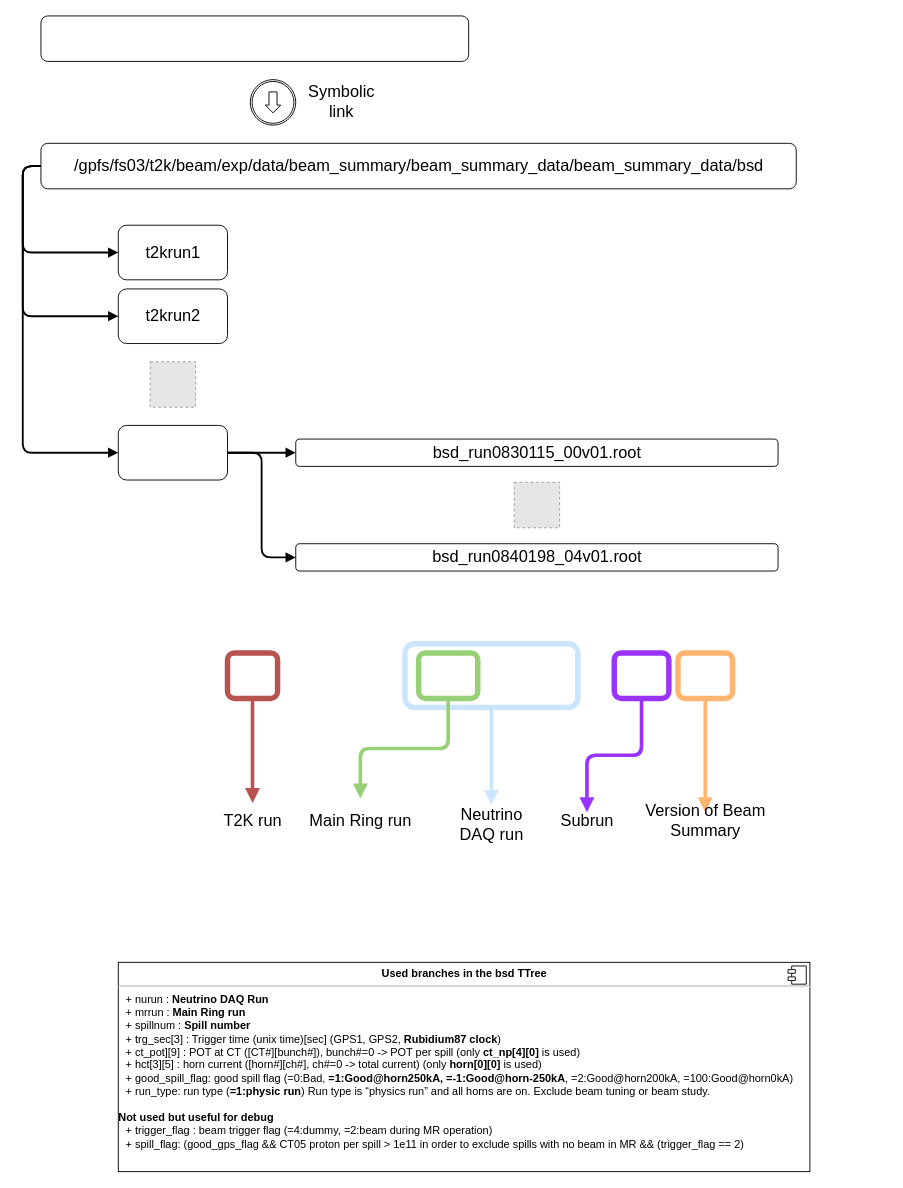
This 903x1188 diagram has some shape labels left out. Grey dashed boxes stand in for pictures. Here are the shapes that lost their labels. From the top down, the centre of each, then its label:
At point (254, 38): "/gpfs/fs03/t2k/beam/exp/data/beam_summary/current".
At point (172, 452): "t2krun10".
At point (447, 675): "t2krun 10 /bsd_run 084 0194 _ 12 v01 .root".
